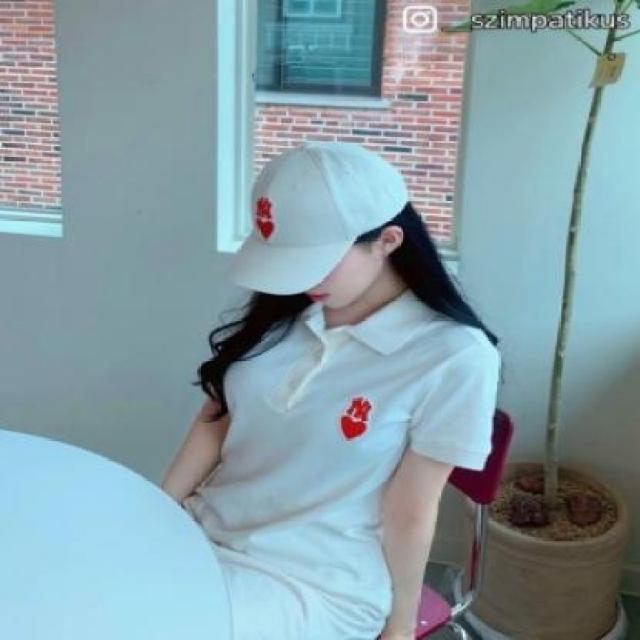hat: (230, 143, 410, 295)
